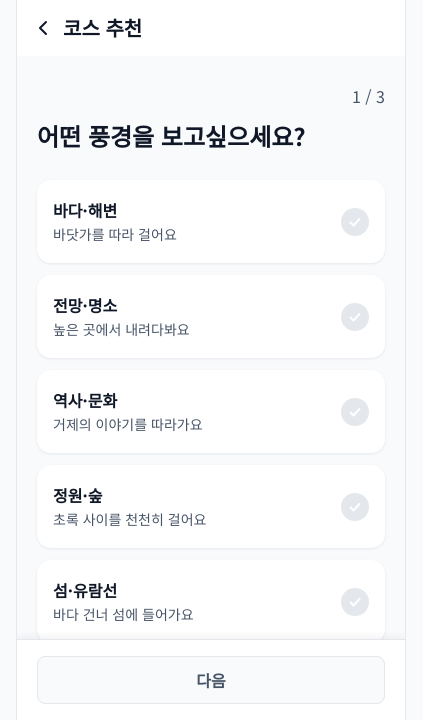
Scenario: 성향으로 코스 찾기(2026-09-20) › 고르기 전에는 「다음」이 눌리지 않고, 고른 뒤 눌러야 넘어간다
Expected: the heading "어떤 풍경을 보고싶으세요?" is shown, [37, 118, 306, 153]
Expected: the button "다음" is disabled, [37, 656, 385, 704]
Click the button "바다·해변 바닷가를 따라 걸어요": (85,210) [37, 180, 385, 263]
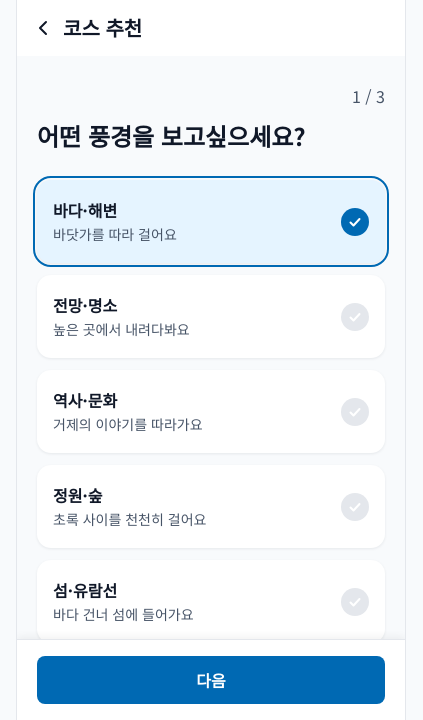
Expected: the heading "어떤 풍경을 보고싶으세요?" is shown, [37, 118, 306, 153]
Result: the button "바다·해변 바닷가를 따라 걸어요" is pressed at [37, 180, 385, 263]
Click the button "다음": (211,680) [37, 656, 385, 704]
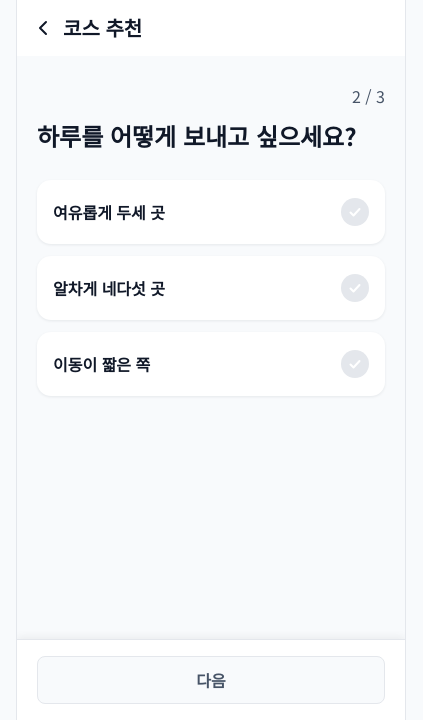
Result: the heading "하루를 어떻게 보내고 싶으세요?" is shown at [37, 120, 385, 152]
